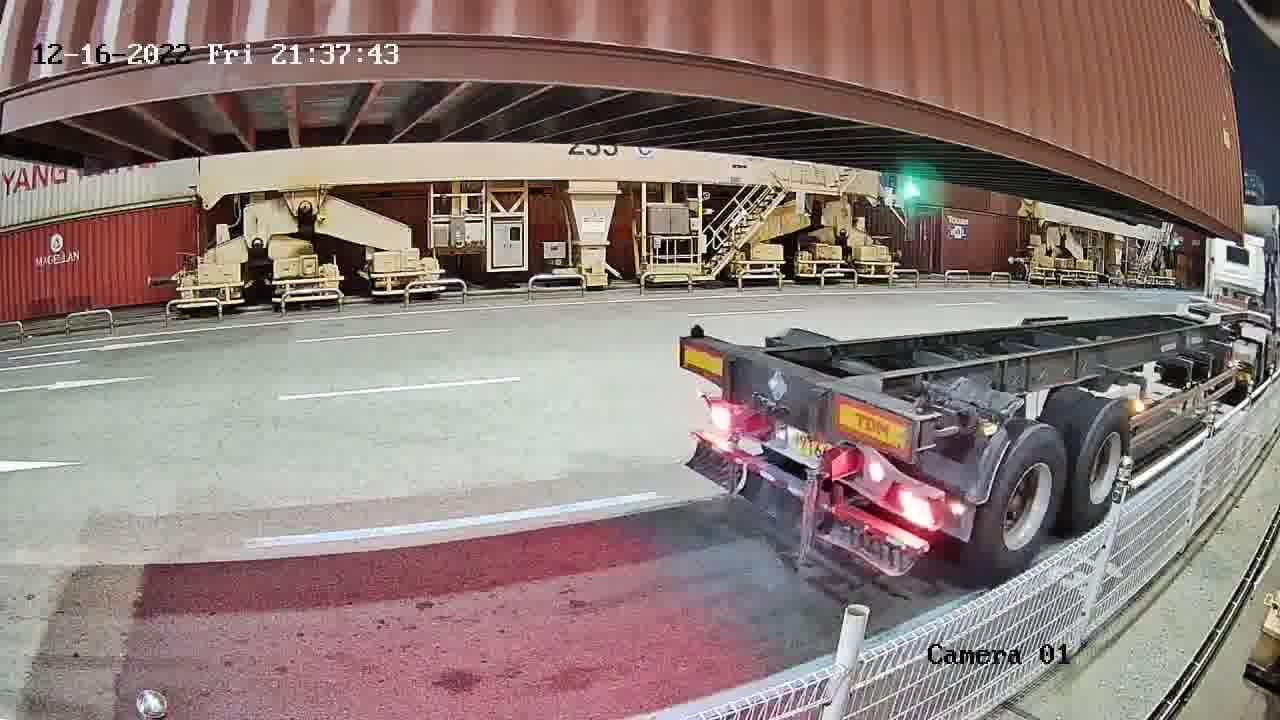Chassis: (678, 340, 923, 467)
